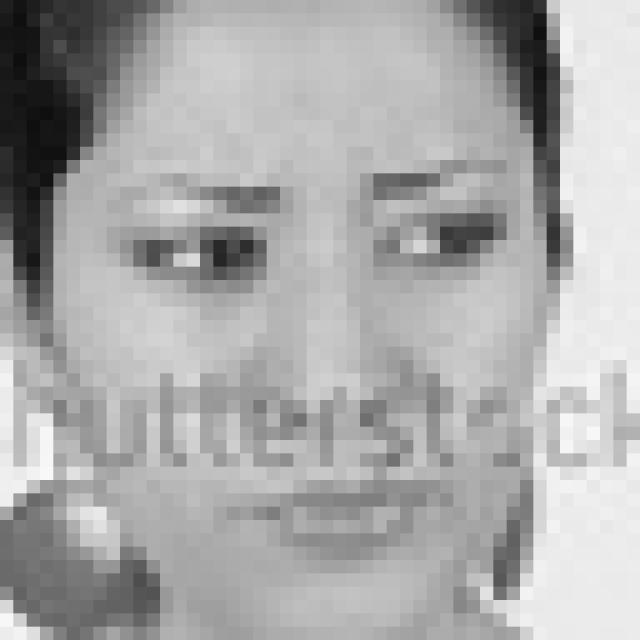disgust: (116, 153, 513, 572)
